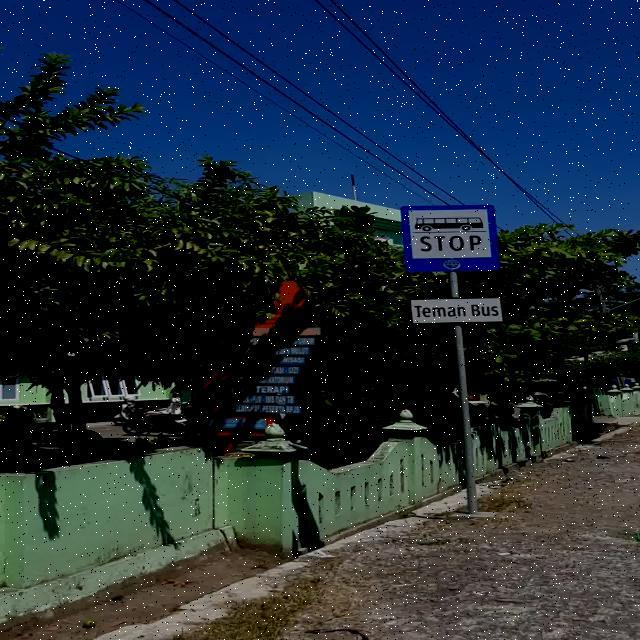Pemberhentian Bus: (400, 205, 500, 272)
